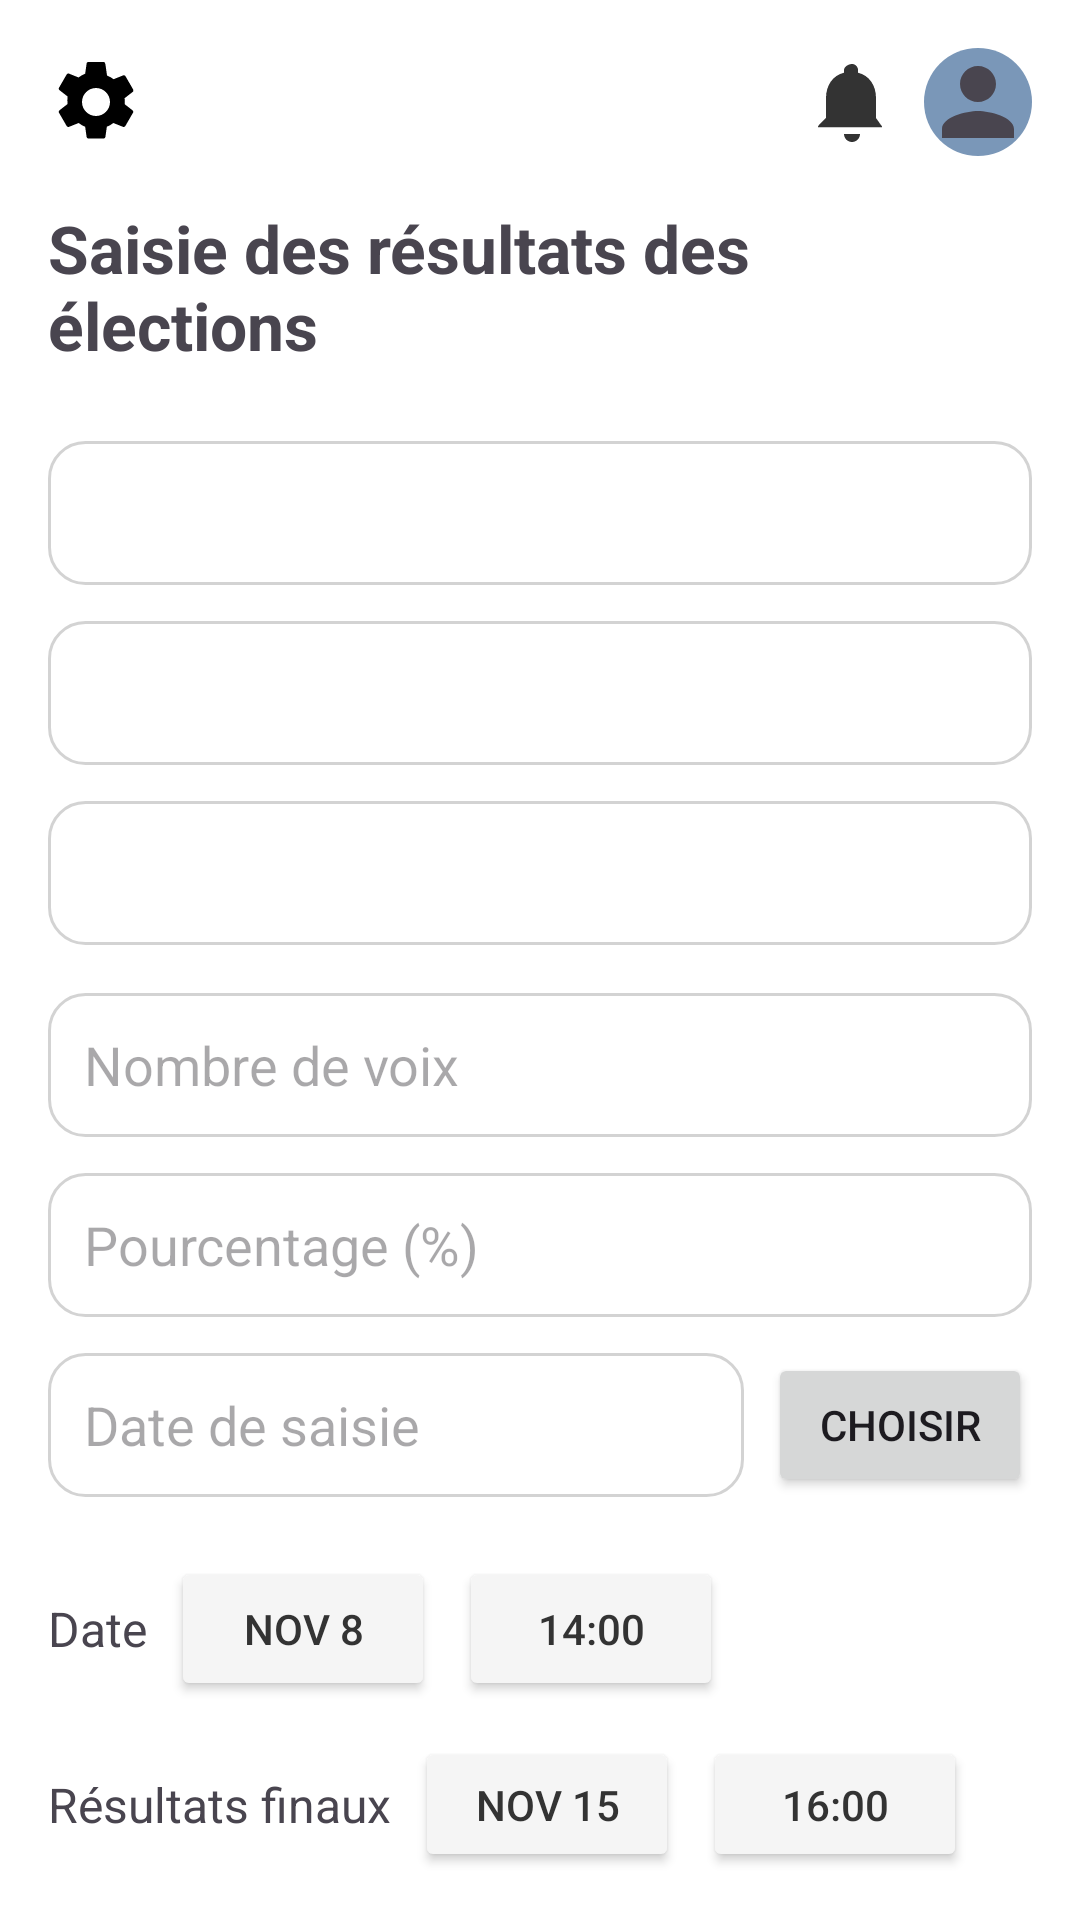

Icon bounding boxes for this 1080×1920 phone screenshot, format (x1, y1, x2, y2):
bell: (818, 64, 882, 142)
settings: (58, 62, 134, 139)
